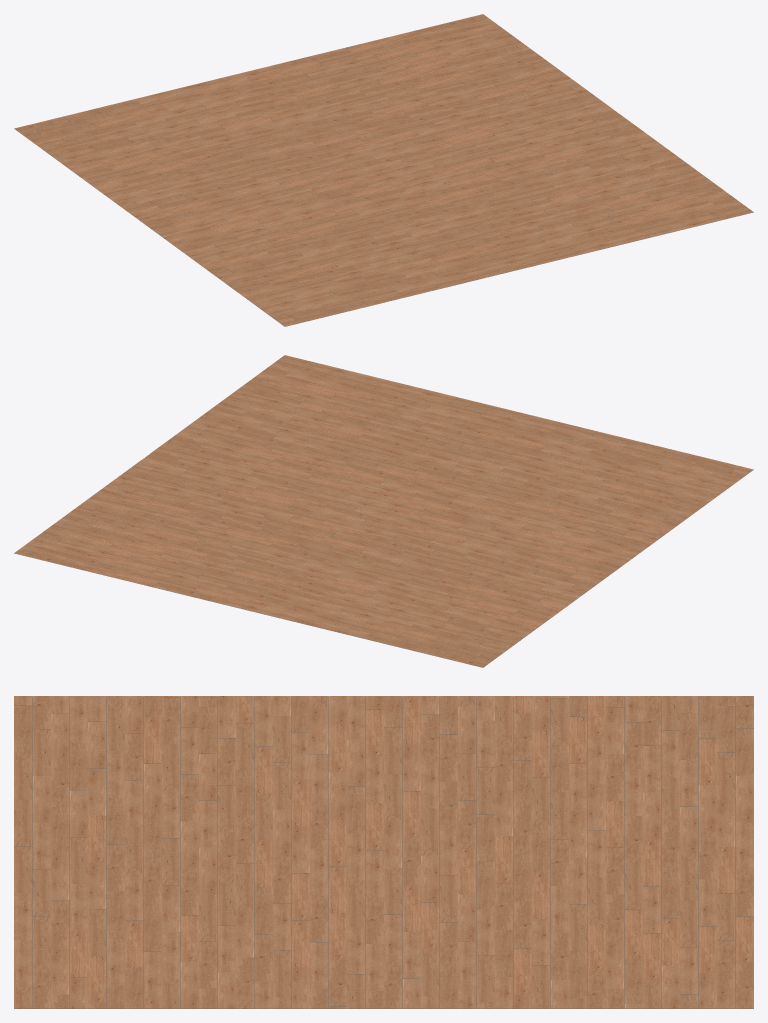
File: leo-acajou-20x120.glb
The picture shows the model from 3 angles, top to bottom: view 1: azimuth 30°, elevation 25°; view 2: azimuth 150°, elevation 25°; view 3: azimuth 270°, elevation 25°; orthographic projection. The views are drawn at different scales.
Parts seen in each view (by area): view 1: Leo Acajou; view 2: Leo Acajou; view 3: Leo Acajou.
Boxes of the visible parts, x1=… form: Leo Acajou: x1=14, y1=14, x2=753, y2=326; Leo Acajou: x1=14, y1=355, x2=753, y2=667; Leo Acajou: x1=14, y1=696, x2=753, y2=1008.
Bounding box in the file's own units: 8 × 0.003 × 8.
Materials: 2 (1 with a texture image).
